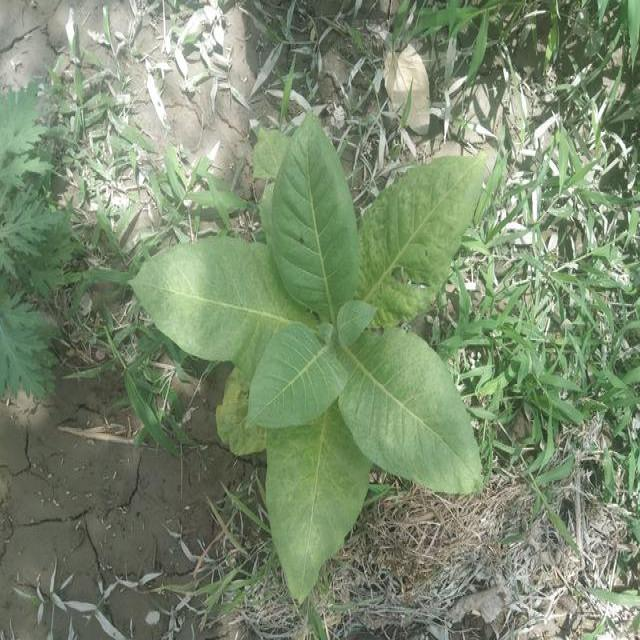crop: (133, 117, 486, 608)
